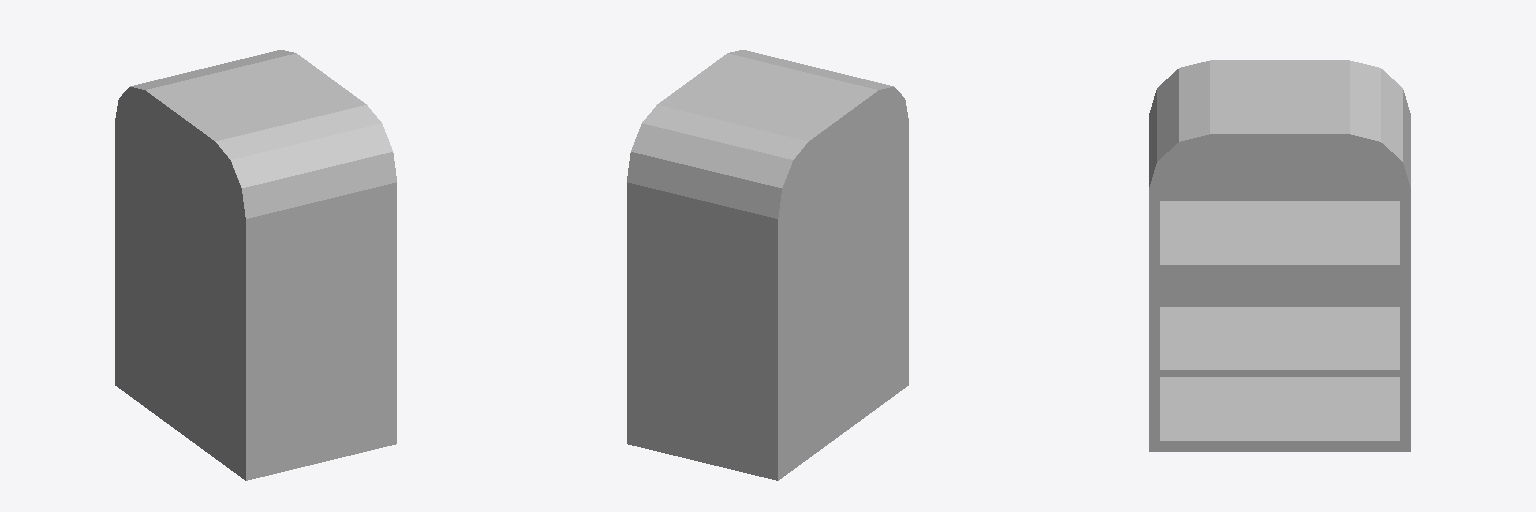
The model's file is Fridge.obj.
3 renders of one model, left to right at view 1: azimuth 30°, elevation 25°; view 2: azimuth 150°, elevation 25°; view 3: azimuth 270°, elevation 25°, orthographic.
Parts seen in each view (by area): view 1: Cube.005_Cube.009; view 2: Cube.005_Cube.009; view 3: Cube.005_Cube.009.
Boxes of the visible parts, <box> form: Cube.005_Cube.009: <box>115,50,396,480</box>; Cube.005_Cube.009: <box>627,50,908,480</box>; Cube.005_Cube.009: <box>1149,60,1410,451</box>.
Bounding box in the file's own units: 2 × 4 × 3.